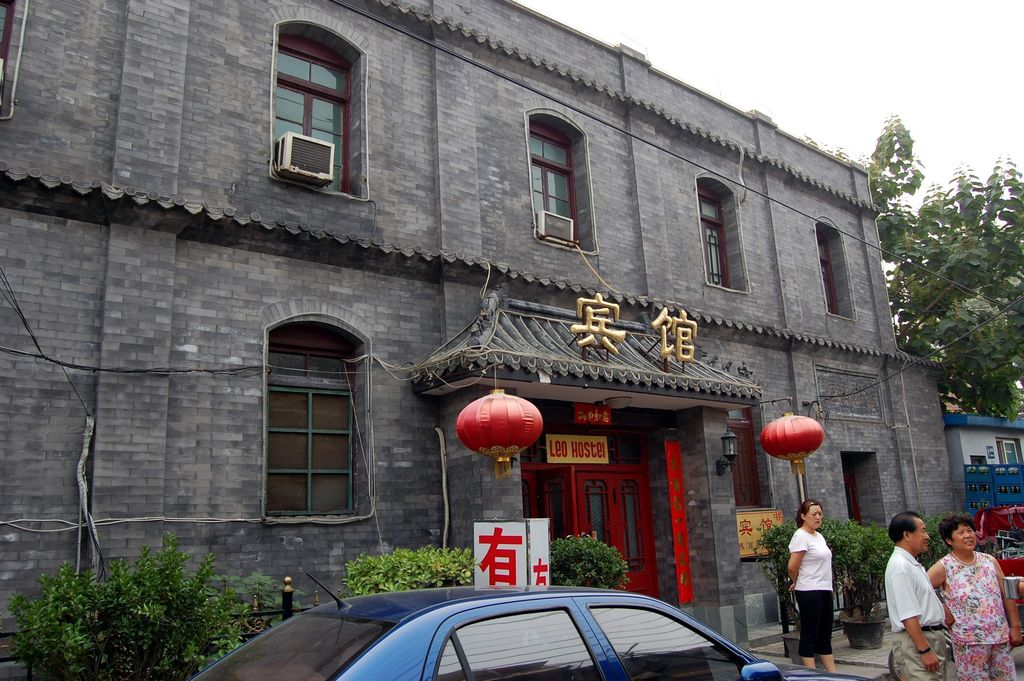Car: (190, 569, 872, 680)
